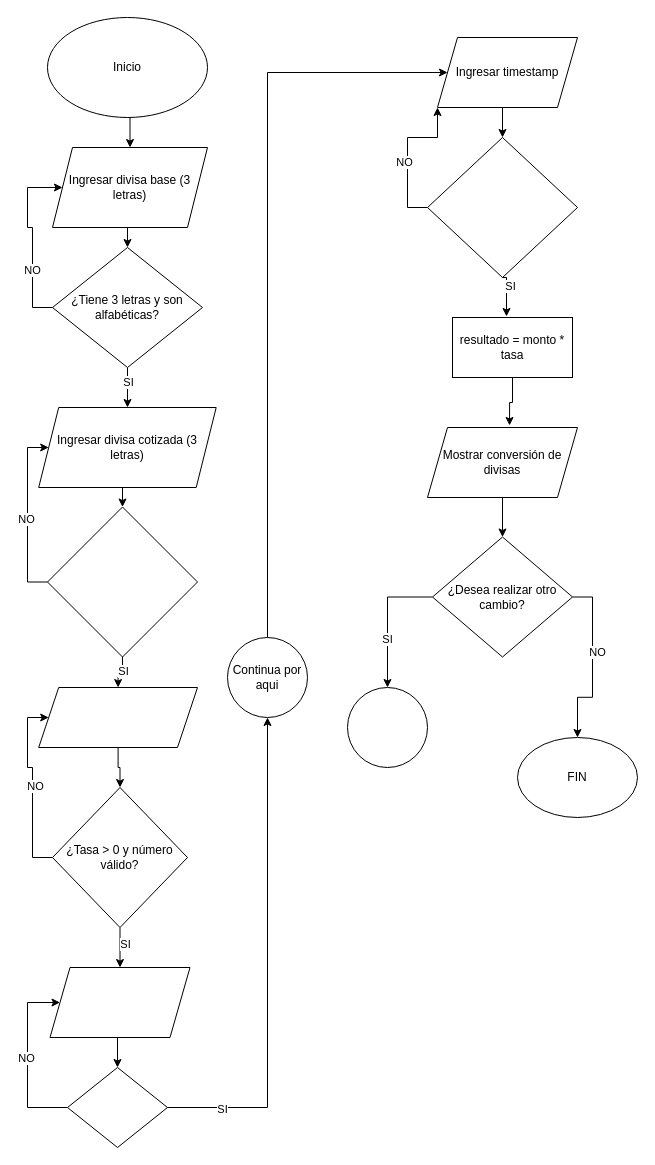
This 655x1165 diagram has some shape labels left out. Each missing label, with the centre of its shape:
Formato de fecha y hora valido?: (502,207)
Ingresar monto base: (119,1002)
Ingresar tasa de cambio: (118,717)
Vuelve al inicio: (387,727)
¿Monto > 0?: (117,1107)
¿Tiene 3 letras válidas?: (122,581)
